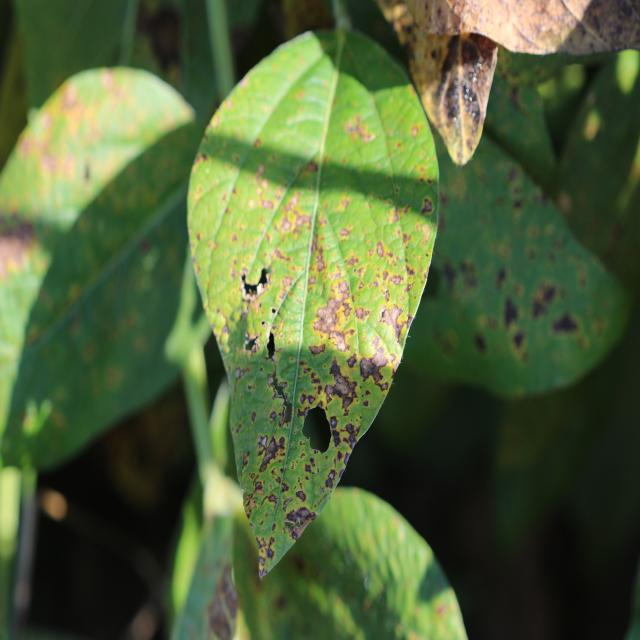Bacterial_Blight: (244, 456, 291, 525), (311, 276, 355, 349), (577, 0, 639, 49), (0, 218, 43, 284), (238, 167, 285, 226), (206, 561, 239, 640), (449, 54, 482, 130), (438, 252, 486, 299), (323, 361, 359, 413), (267, 370, 293, 418), (378, 303, 406, 346), (530, 280, 560, 319), (258, 433, 286, 470), (429, 2, 458, 34), (241, 268, 269, 299), (345, 116, 376, 143), (432, 328, 458, 358), (233, 365, 250, 401), (503, 297, 519, 327), (244, 331, 260, 353), (265, 330, 276, 359), (325, 468, 337, 490), (474, 333, 487, 352), (420, 197, 433, 214), (305, 160, 318, 174), (83, 161, 91, 181), (376, 241, 385, 258), (513, 198, 524, 210), (410, 125, 419, 138), (258, 555, 266, 566), (330, 417, 337, 428)
Soybean: (189, 35, 437, 576)
